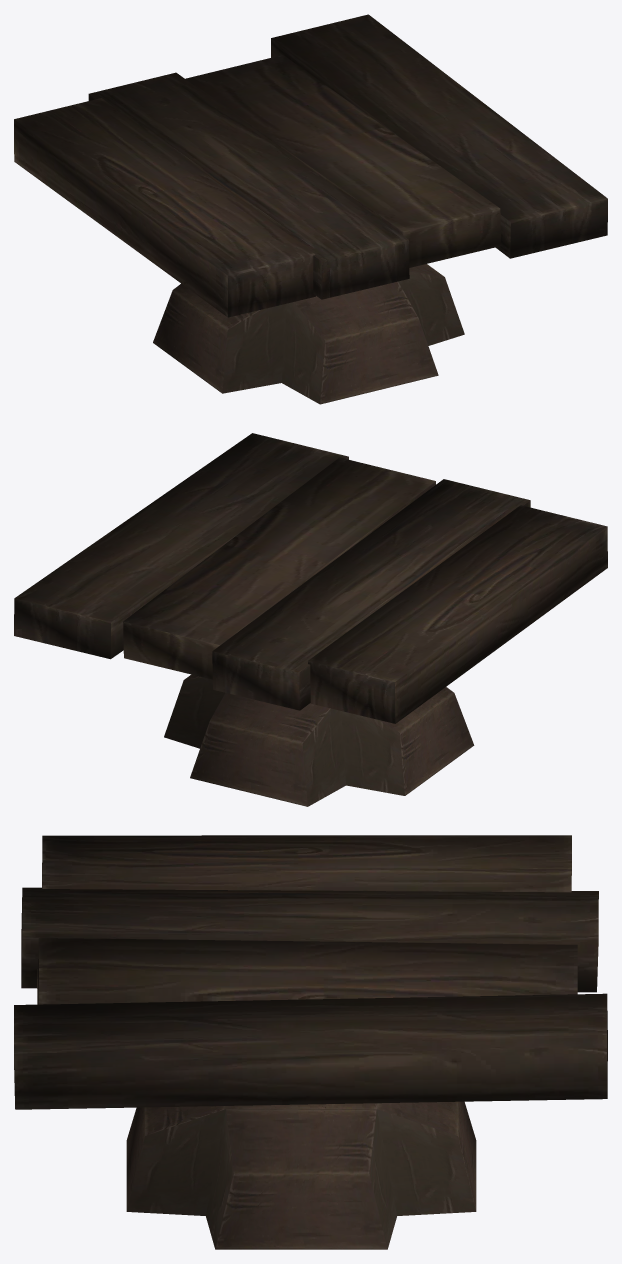
3 views of the same model, one above another, from view 1: azimuth 30°, elevation 25°; view 2: azimuth 150°, elevation 25°; view 3: azimuth 270°, elevation 25° (orthographic). The views are drawn at different scales.
Bounding box in the file's own units: 2.2 × 1.08 × 2.48.
Materials: 2 (2 with a texture image).
